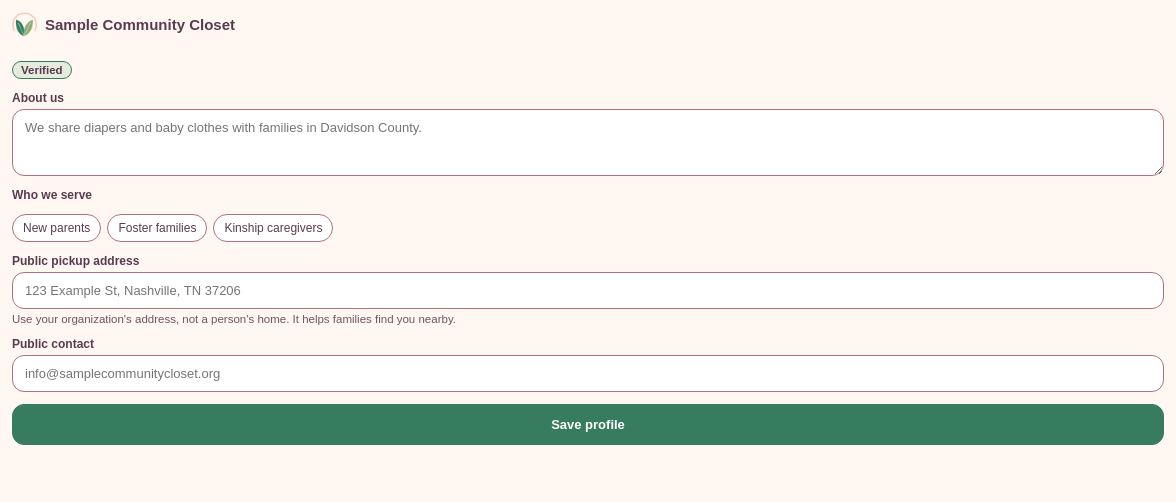
Test: OrgProfilePage › keeps the answers when the network fails
Replace the text in the text box labelled "About us" with "We share diapers." at [588, 142], box [12,109,1164,176]
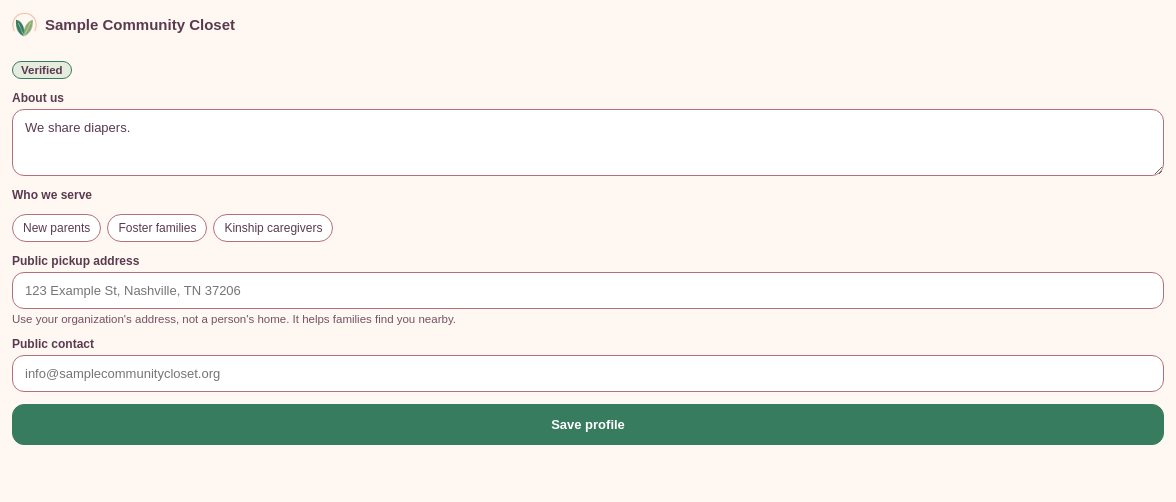
Click the button "Save profile" at [588, 424], box [12,404,1164,445]
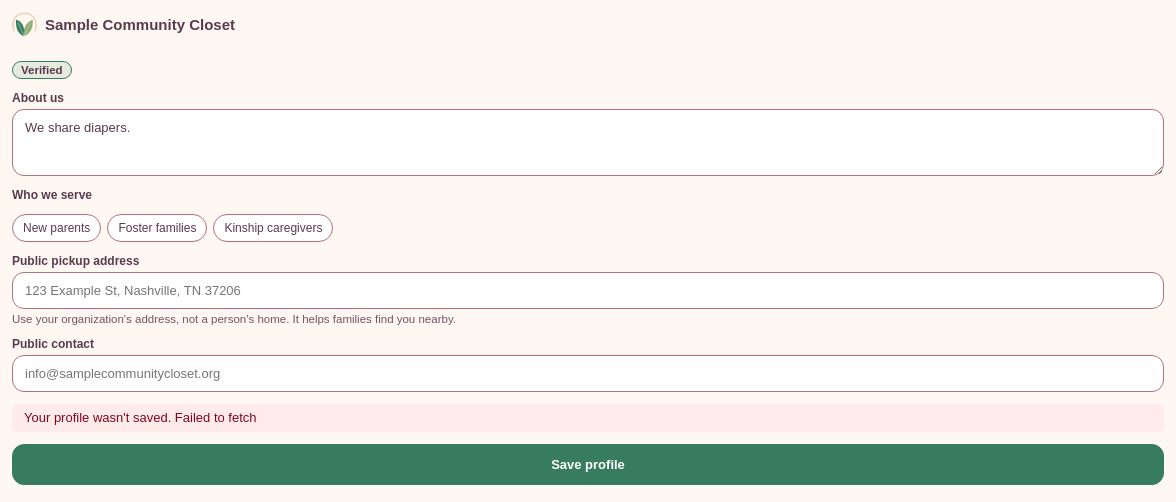
expect the text "Your profile wasn't saved. Failed to fetch" is shown: met, box [12,404,1164,432]
